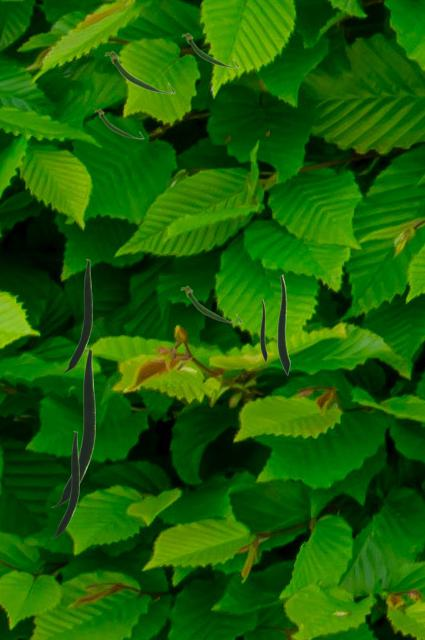french_bean: (51, 348, 94, 506), (61, 259, 91, 372), (104, 50, 174, 93), (50, 431, 78, 537), (180, 285, 241, 323), (181, 32, 238, 67), (94, 108, 143, 138), (277, 274, 289, 374), (260, 299, 266, 361)
